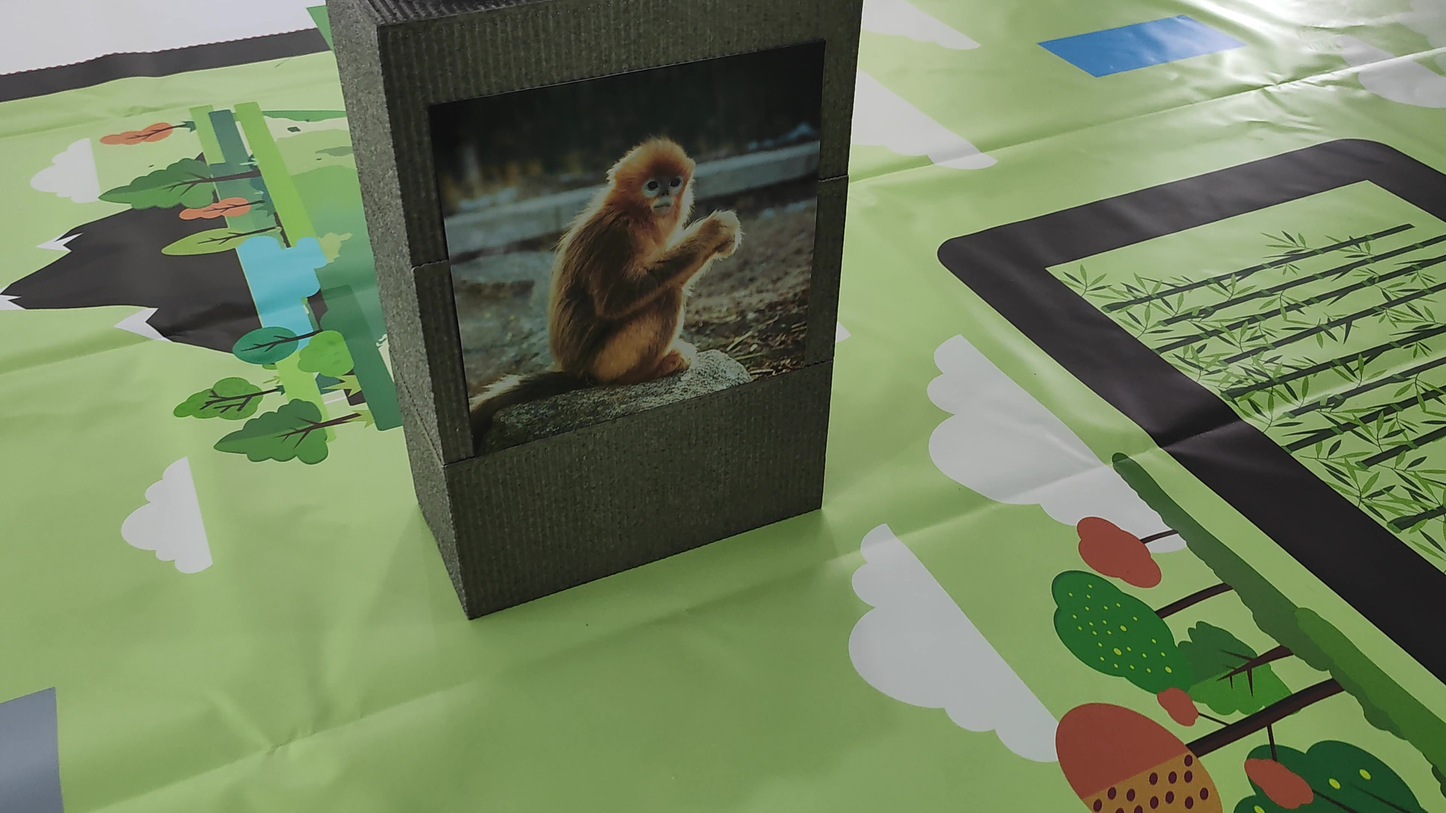monkey: (466, 119, 753, 420)
